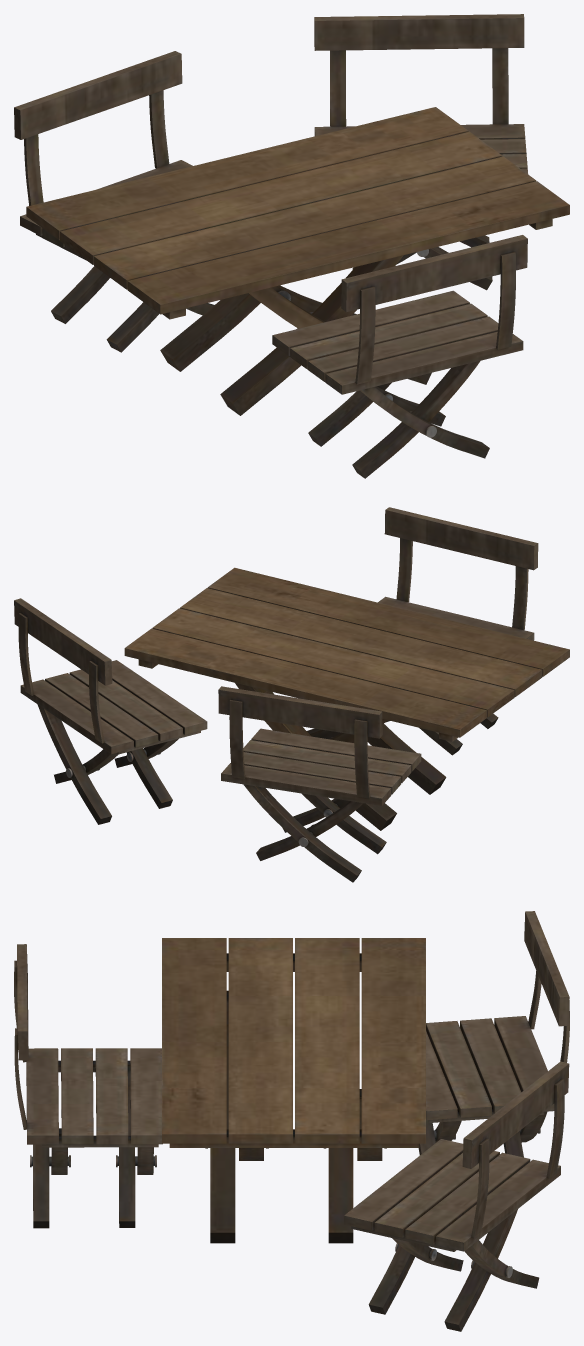
Rendered from SM_table_chairs.glb.
The picture shows the model from 3 angles, top to bottom: view 1: azimuth 30°, elevation 25°; view 2: azimuth 150°, elevation 25°; view 3: azimuth 270°, elevation 25°; orthographic projection. The views are drawn at different scales.
Parts seen in each view (by area): view 1: SM_table_chairs; view 2: SM_table_chairs; view 3: SM_table_chairs.
Part boxes in pixels (x1=…): SM_table_chairs: x1=14, y1=14, x2=569, y2=478; SM_table_chairs: x1=14, y1=507, x2=569, y2=882; SM_table_chairs: x1=14, y1=911, x2=569, y2=1331.
Bounding box in the file's own units: 2.34 × 0.9312 × 2.19.
1 material, 1 textured.
